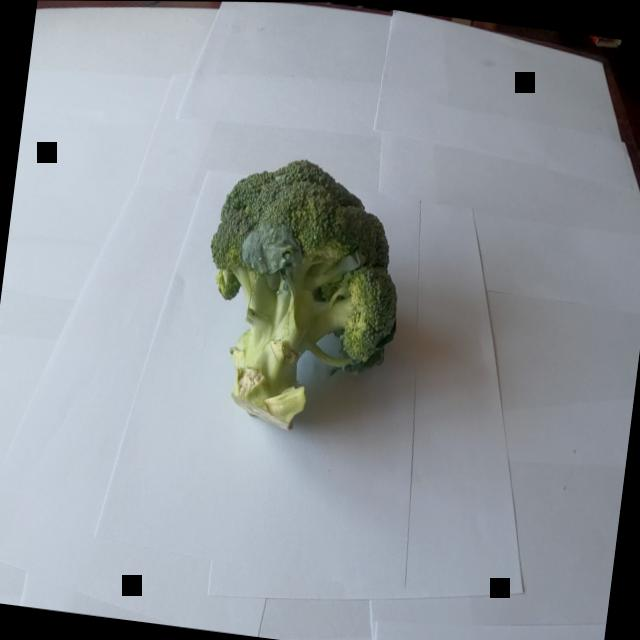Broccoli: (172, 125, 430, 461)
